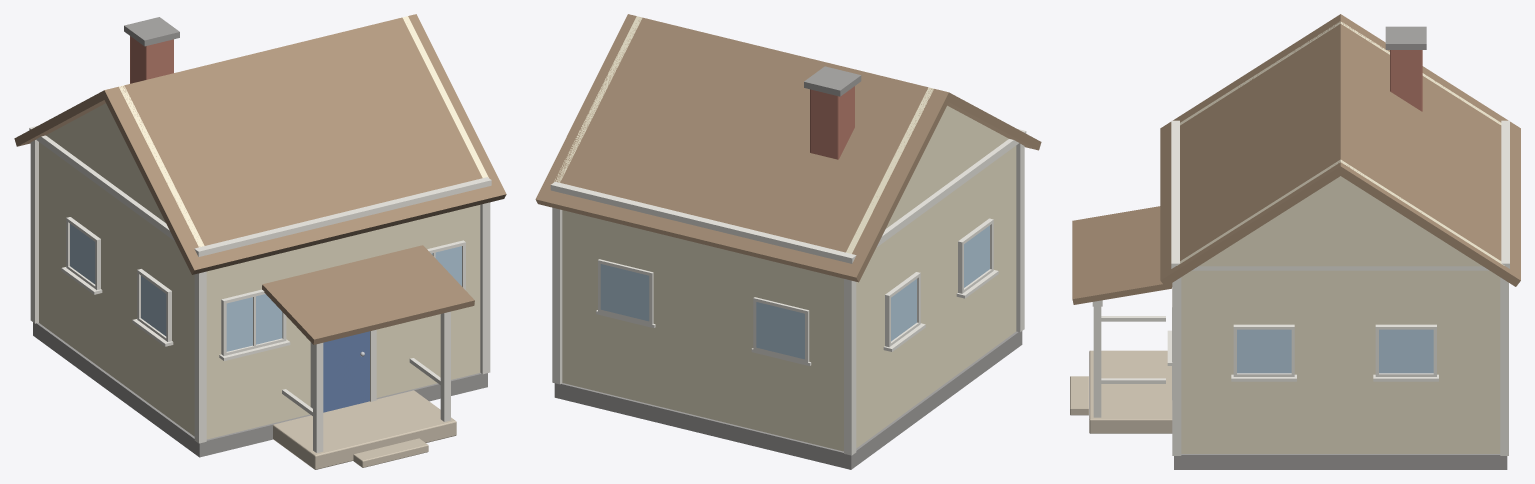
File: HouseCreamModel.glb
The picture shows the model from 3 angles, left to right: view 1: azimuth 30°, elevation 25°; view 2: azimuth 150°, elevation 25°; view 3: azimuth 270°, elevation 25°; orthographic projection. The views are drawn at different scales.
Visible parts, largest first — view 1: HouseCreamModel; view 2: HouseCreamModel; view 3: HouseCreamModel.
Part boxes in pixels (left/top/right/bottom): HouseCreamModel: left=14, top=14, right=506, bottom=469; HouseCreamModel: left=535, top=14, right=1041, bottom=469; HouseCreamModel: left=1070, top=14, right=1520, bottom=469.
Size of the model in its own units: 6.6 by 6.61 by 8.26.
